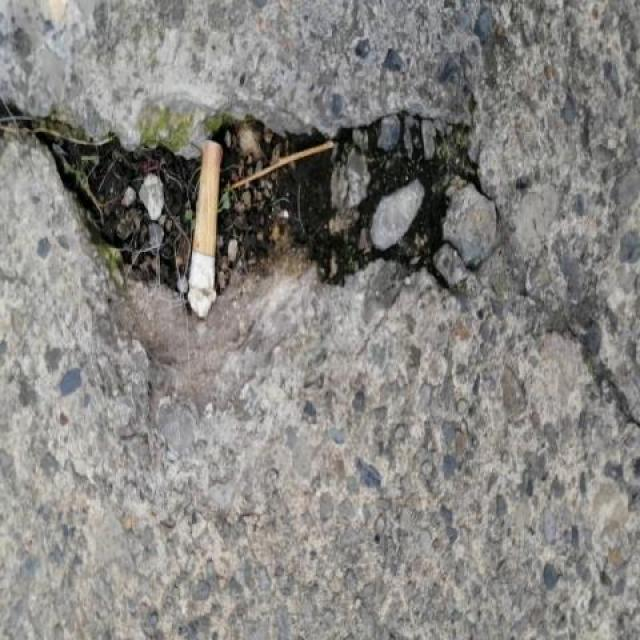non-organic waste: (187, 135, 228, 294)
